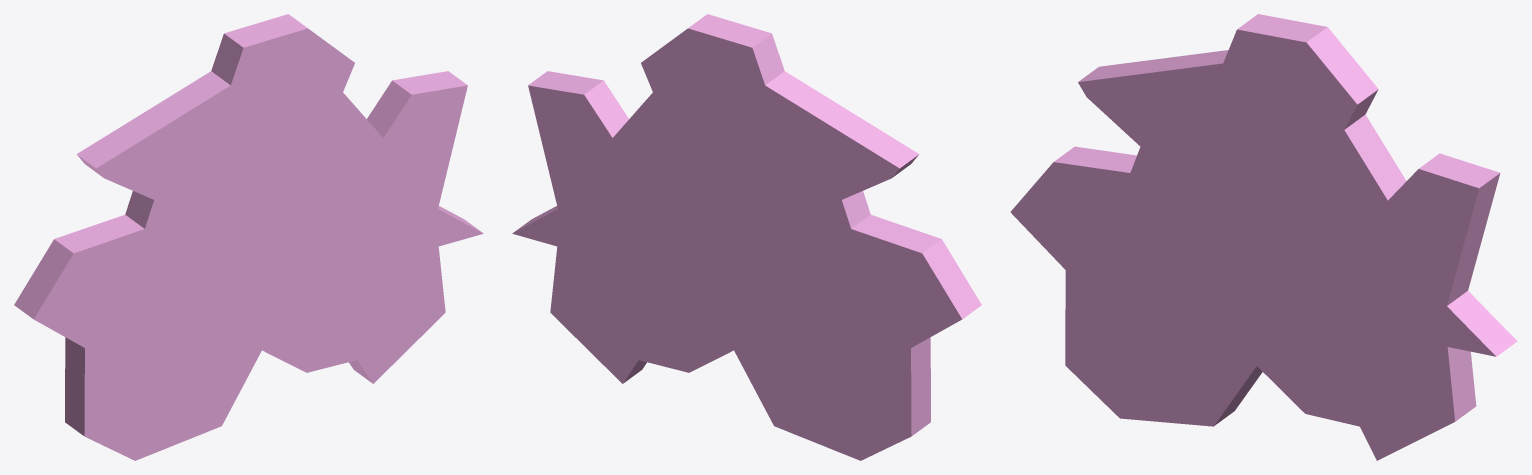
Rendered from san_pedro_gallo.fbx.
3 views of the same model, side by side, from view 1: azimuth 30°, elevation 25°; view 2: azimuth 150°, elevation 25°; view 3: azimuth 330°, elevation 25° (orthographic). The views are drawn at different scales.
Visible parts, largest first — view 1: san_pedro_gallo; view 2: san_pedro_gallo; view 3: san_pedro_gallo.
Boxes of the visible parts, x1=… form: san_pedro_gallo: x1=14, y1=14, x2=483, y2=460; san_pedro_gallo: x1=512, y1=14, x2=981, y2=460; san_pedro_gallo: x1=1010, y1=14, x2=1517, y2=460.
Size of the model in its own units: 106 by 87.85 by 8.
